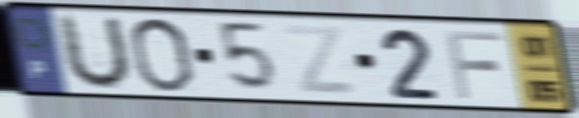2: (373, 22, 447, 103)
5: (212, 21, 280, 96)
F: (442, 27, 506, 102)
O: (126, 15, 197, 95)
U: (57, 11, 135, 93)
Z: (280, 22, 361, 99)
